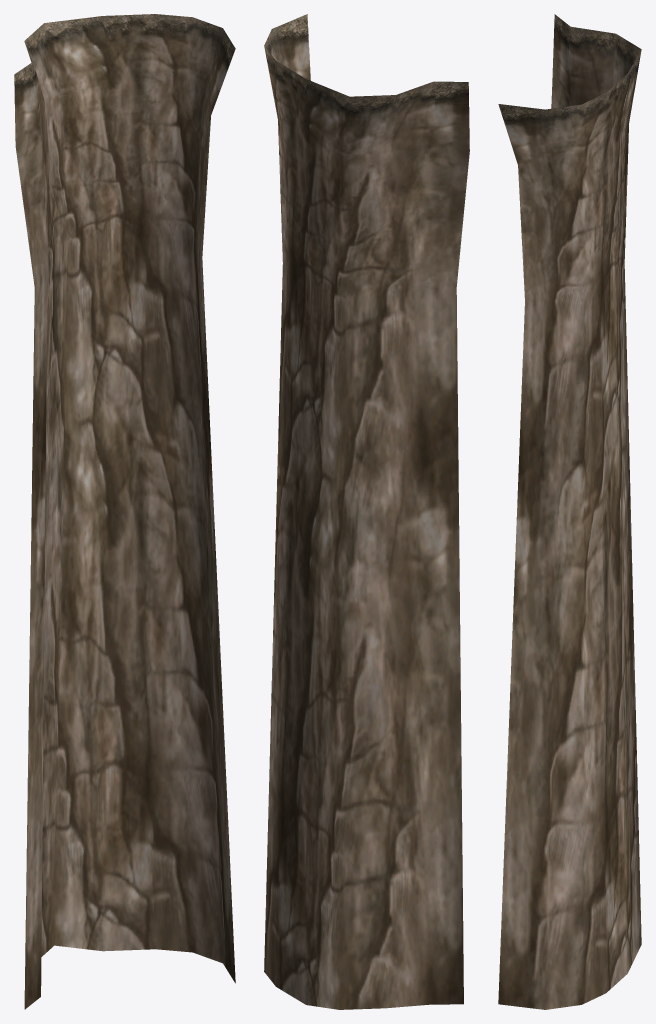
Rendered from OVERHILL_A_01_LINE33.fbx.
3 renders of one model, left to right at view 1: azimuth 30°, elevation 25°; view 2: azimuth 150°, elevation 25°; view 3: azimuth 270°, elevation 25°, orthographic. The views are drawn at different scales.
Parts seen in each view (by area): view 1: OVERHILL_A_01_LINE33; view 2: OVERHILL_A_01_LINE33; view 3: OVERHILL_A_01_LINE33.
Boxes of the visible parts, <box> form: OVERHILL_A_01_LINE33: <box>14,14,235,1009</box>; OVERHILL_A_01_LINE33: <box>264,14,469,1009</box>; OVERHILL_A_01_LINE33: <box>498,14,641,1009</box>.
Size of the model in its own units: 35182 by 154338 by 22260.
Materials: 2 (2 with a texture image).
